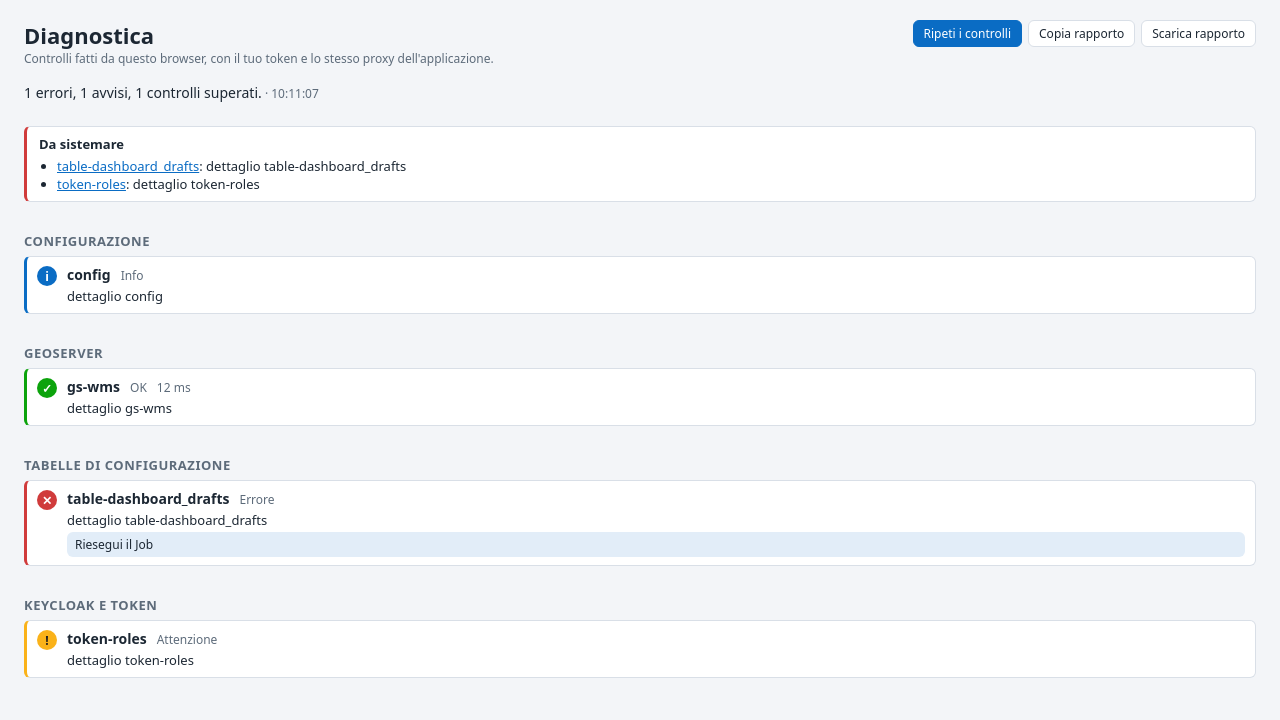
Test: AdminDiagnostics › copia non consentita: lo dice
Expected: the text "1 errori, 1 avvisi, 1 controlli superati. · 10:11:07" is shown, top-left (24, 83), bottom-right (319, 102)
Click the button "Copia rapporto" at coordinates (1082, 34), box top-left (1028, 20), bottom-right (1135, 47)
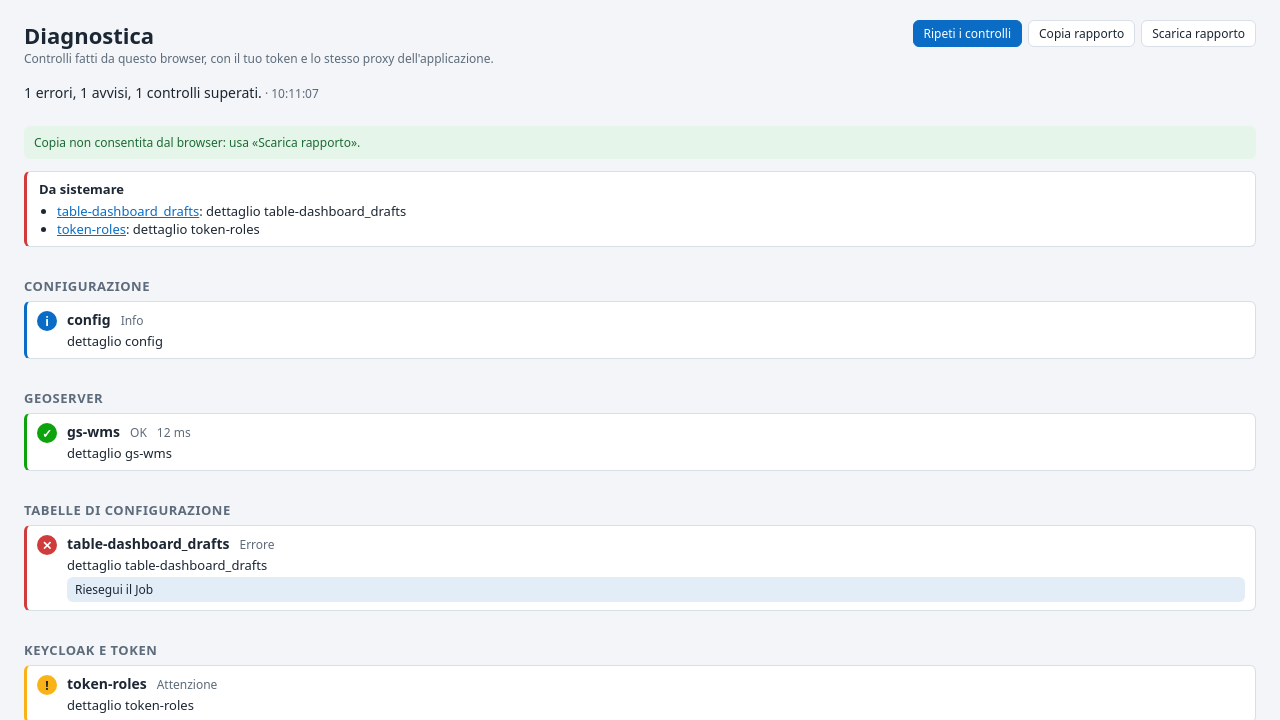
Expected: the text "Copia non consentita dal browser: usa «Scarica rapporto»." is shown, top-left (24, 126), bottom-right (1256, 159)
